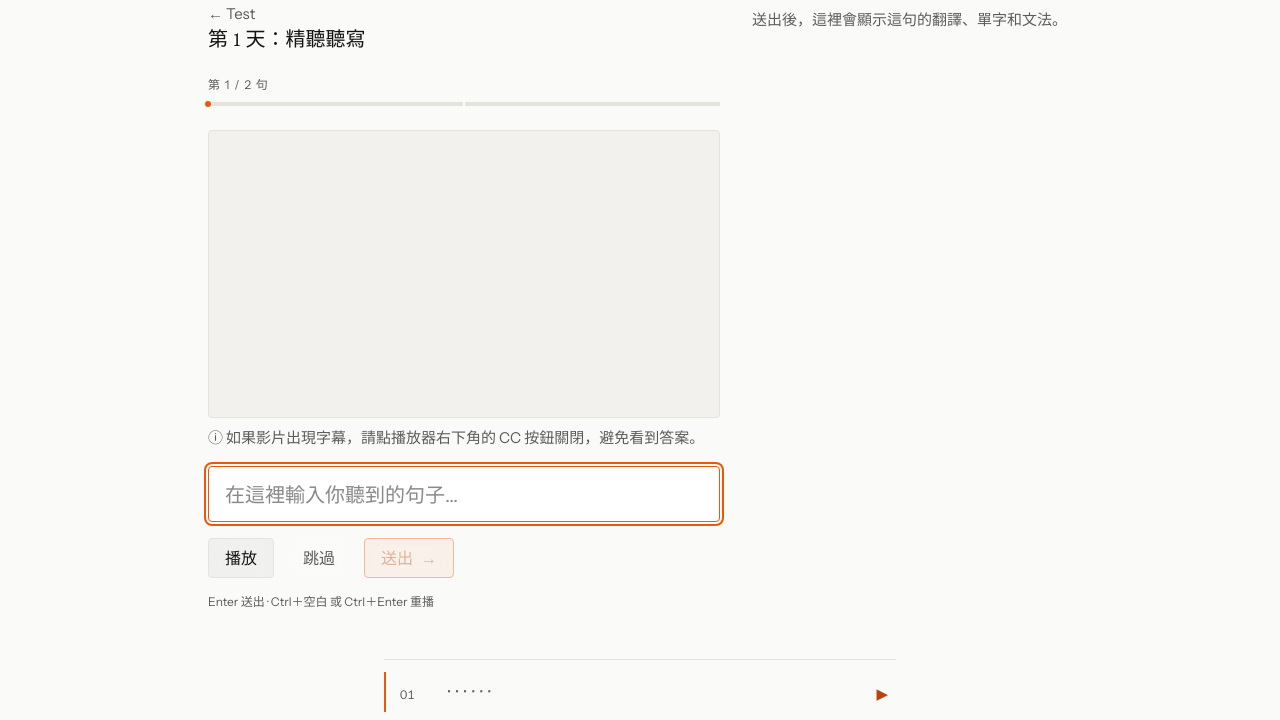
it: DictationSession › explains each sentence once it is answered
This screenshot has width=1280, height=720.
Expected: the text "回家。" is not shown
// Sentence 1 has no vocabulary or grammar: translation only.
Type "go home" into the text box labelled "你聽到的句子" at x=464, y=494, box [208, 466, 720, 522]
Then press Enter
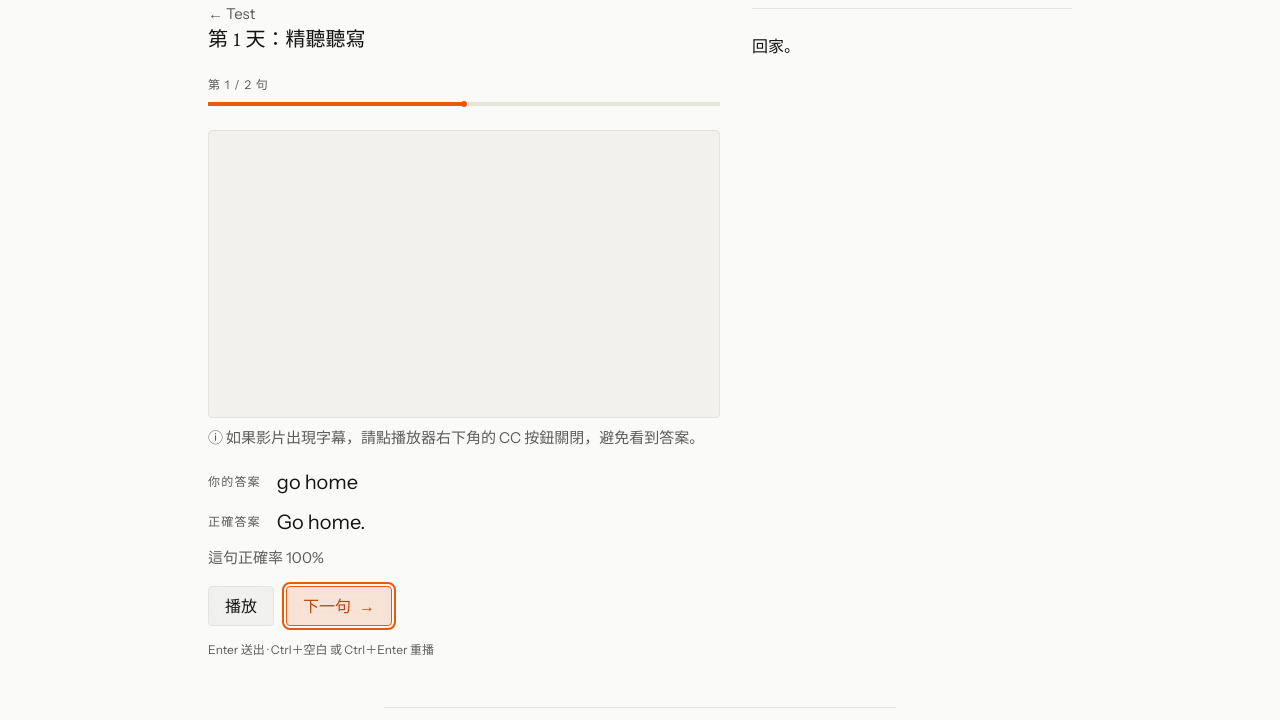
Expected: the heading "文法重點" is not shown
Expected: the text "回家。" is shown, [752, 36, 800, 56]
Expected: the text "單字" is gone
Press Enter
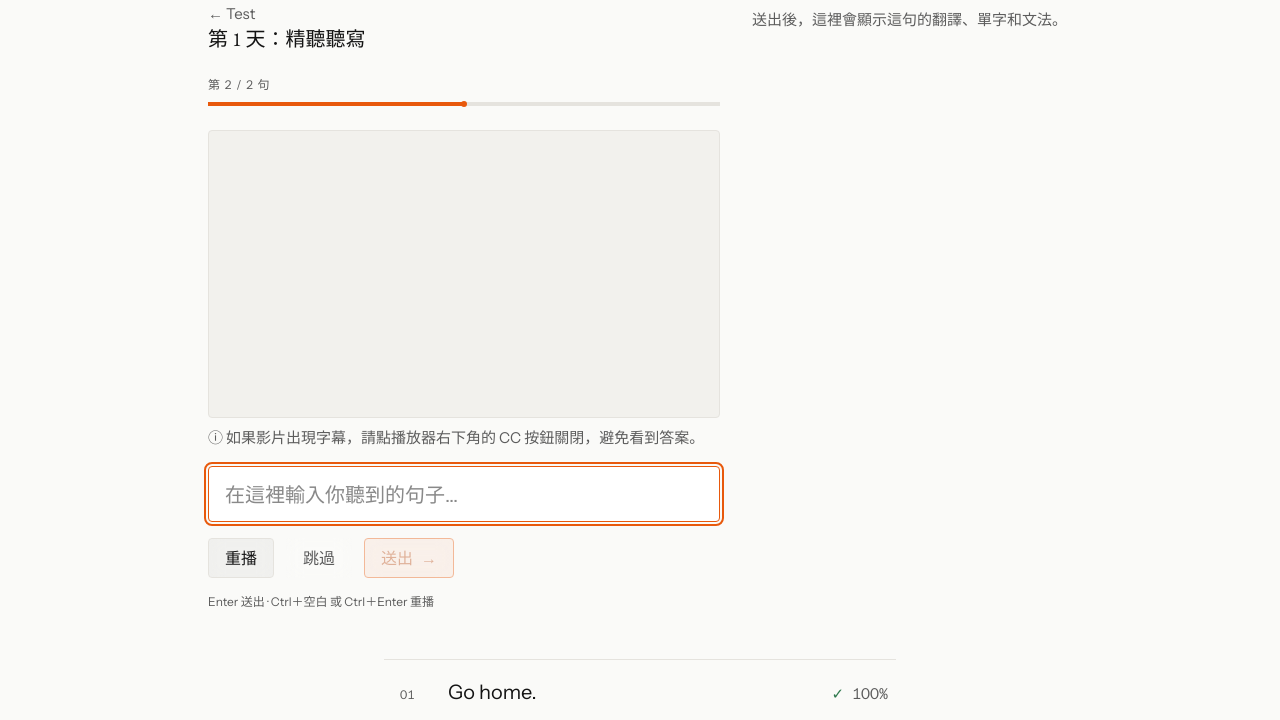
Expected: the text "回家。" is gone
Type "we moved to the city" into the text box labelled "你聽到的句子" at x=464, y=494, box [208, 466, 720, 522]
Then press Enter
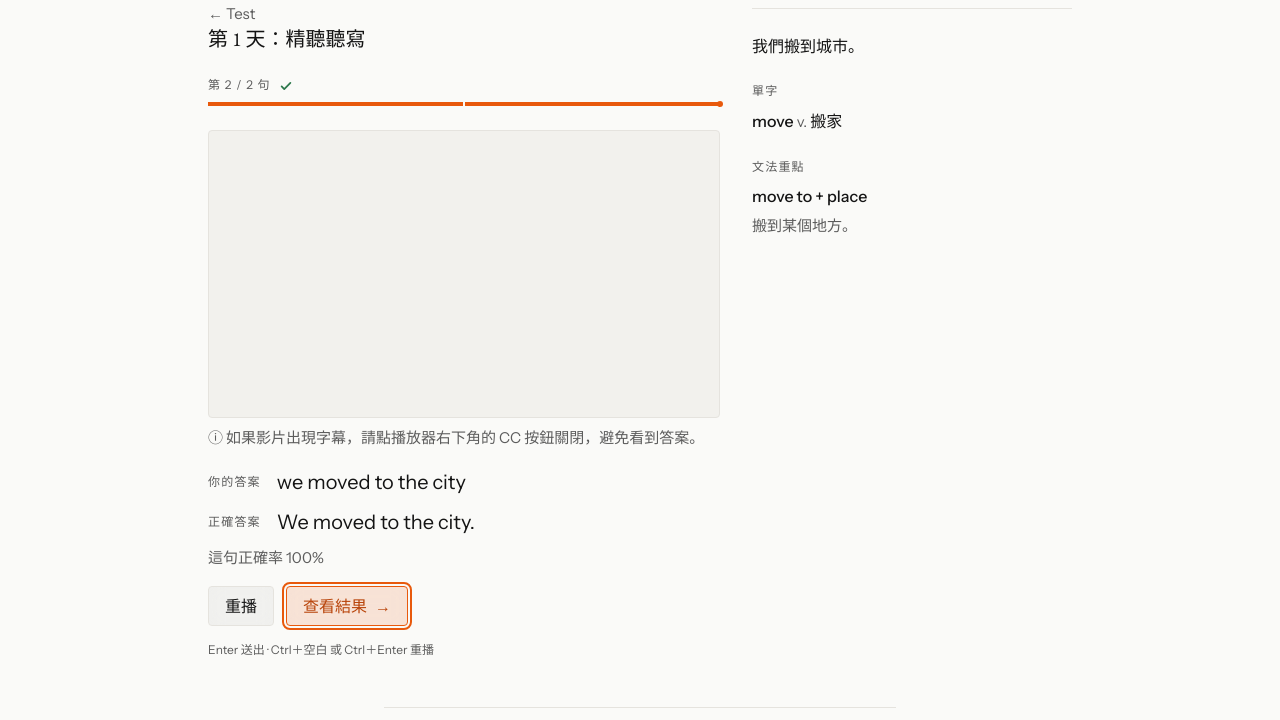
Expected: the heading "單字" is shown, [752, 83, 778, 98]
Expected: the text "我們搬到城市。" is shown, [752, 36, 864, 56]
Expected: the list item "move v. 搬家" is shown, [752, 111, 842, 131]
